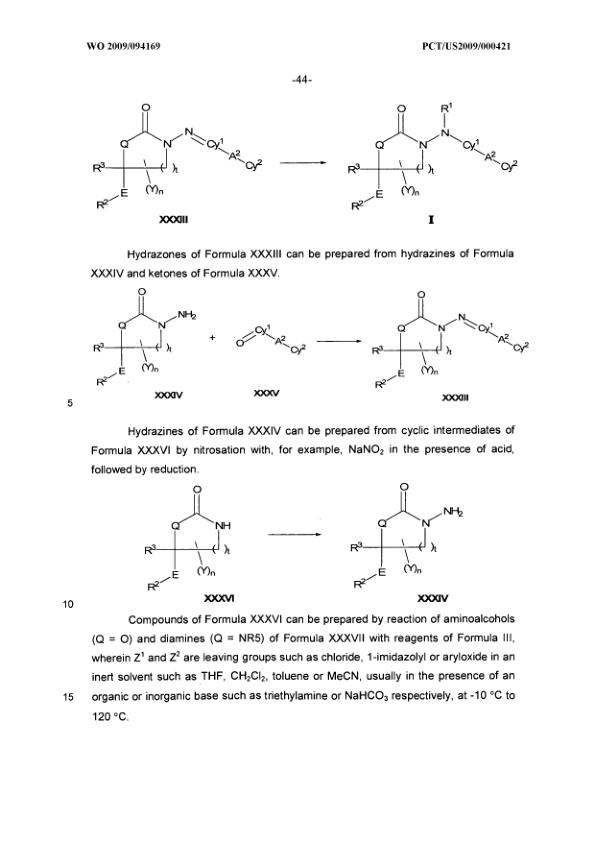compound-structure: (78, 89, 267, 228), (343, 89, 519, 226), (371, 286, 530, 390), (348, 481, 477, 606), (142, 481, 243, 610), (86, 282, 205, 388), (229, 309, 306, 365)
reaction: (54, 74, 525, 244), (57, 281, 552, 404), (94, 479, 522, 614)
reaction-arrow: (267, 530, 330, 545), (274, 156, 330, 171), (314, 337, 361, 351)
